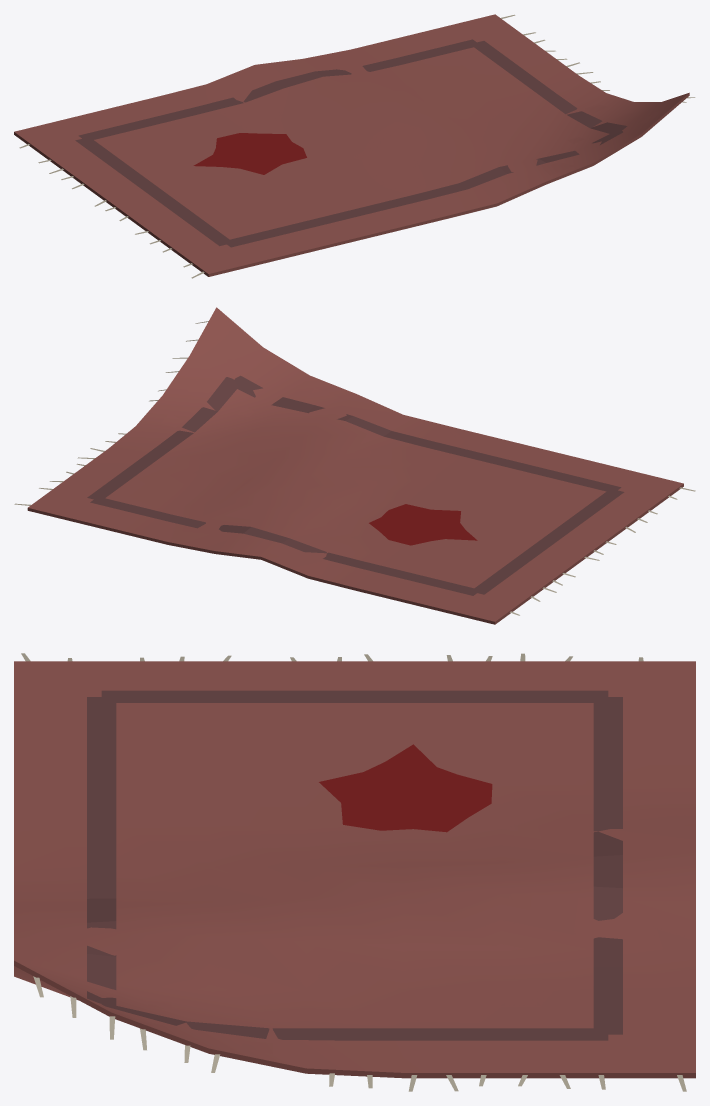
Rendered from rug.glb.
3 views of the same model, one above another, from view 1: azimuth 30°, elevation 25°; view 2: azimuth 150°, elevation 25°; view 3: azimuth 270°, elevation 25° (orthographic). The views are drawn at different scales.
Parts seen in each view (by area): view 1: rug_static; view 2: rug_static; view 3: rug_static.
Part boxes in pixels (box(x1,y1,x2,y2)): rug_static: box(14, 14, 695, 278); rug_static: box(14, 307, 695, 624); rug_static: box(14, 653, 695, 1091).
Size of the model in its own units: 2.13 by 0.2666 by 1.4.
